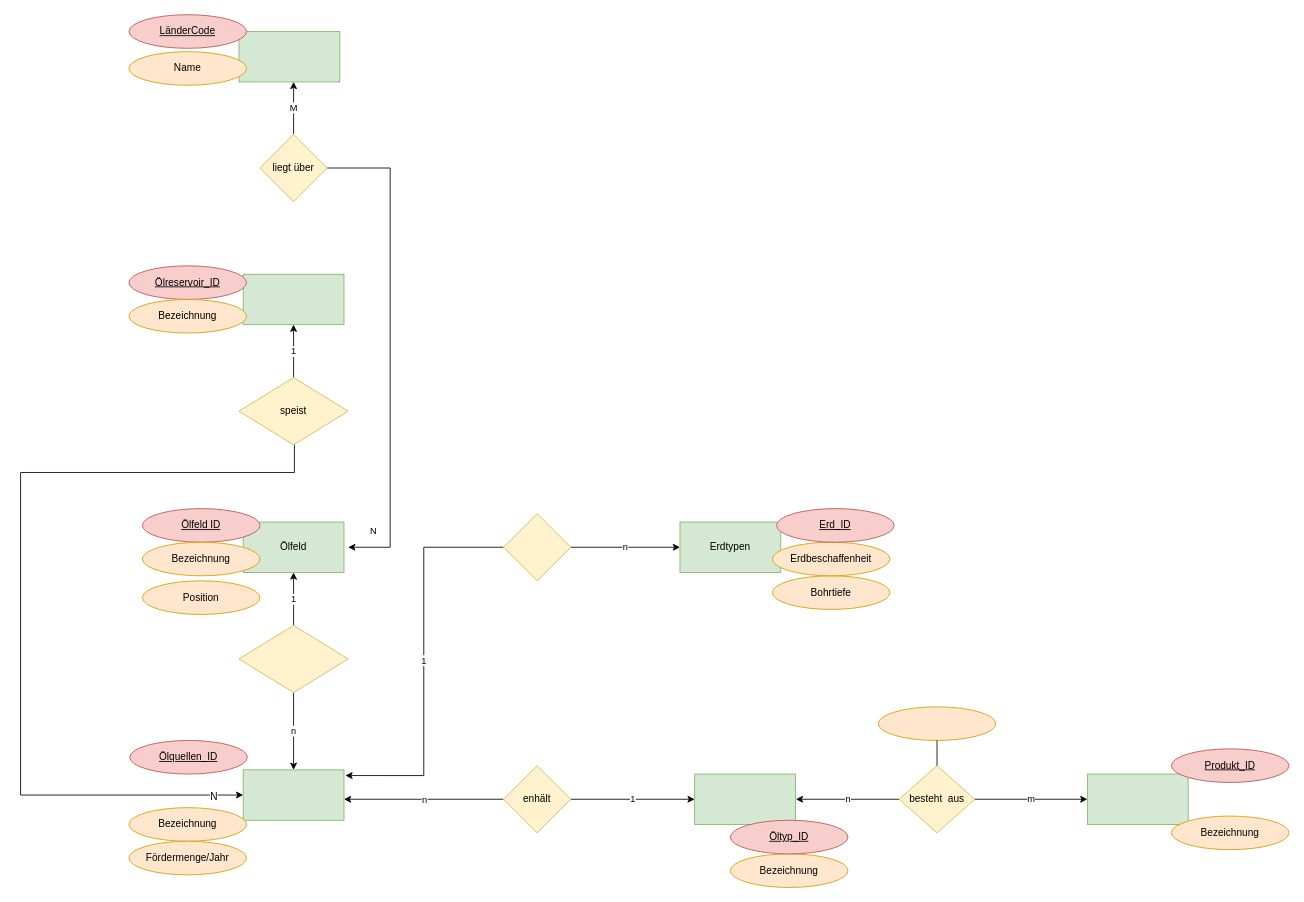
This 1304x902 diagram has some shape labels left out. The box of each missing label's shape, as (x1, y1, x2, y2) in pixels:
benötigte Ölmenge: (877, 706, 996, 740)
hat: (503, 513, 571, 581)
Land: (238, 31, 340, 82)
Produkt: (1087, 773, 1188, 824)
wird angezapft: (238, 625, 348, 693)
Ölquellen: (242, 769, 344, 820)
Ölreservoir: (242, 273, 344, 325)
Öltyp: (694, 773, 795, 824)
